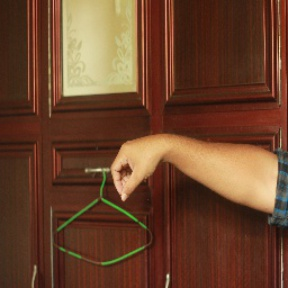O: (108, 134, 168, 201)
